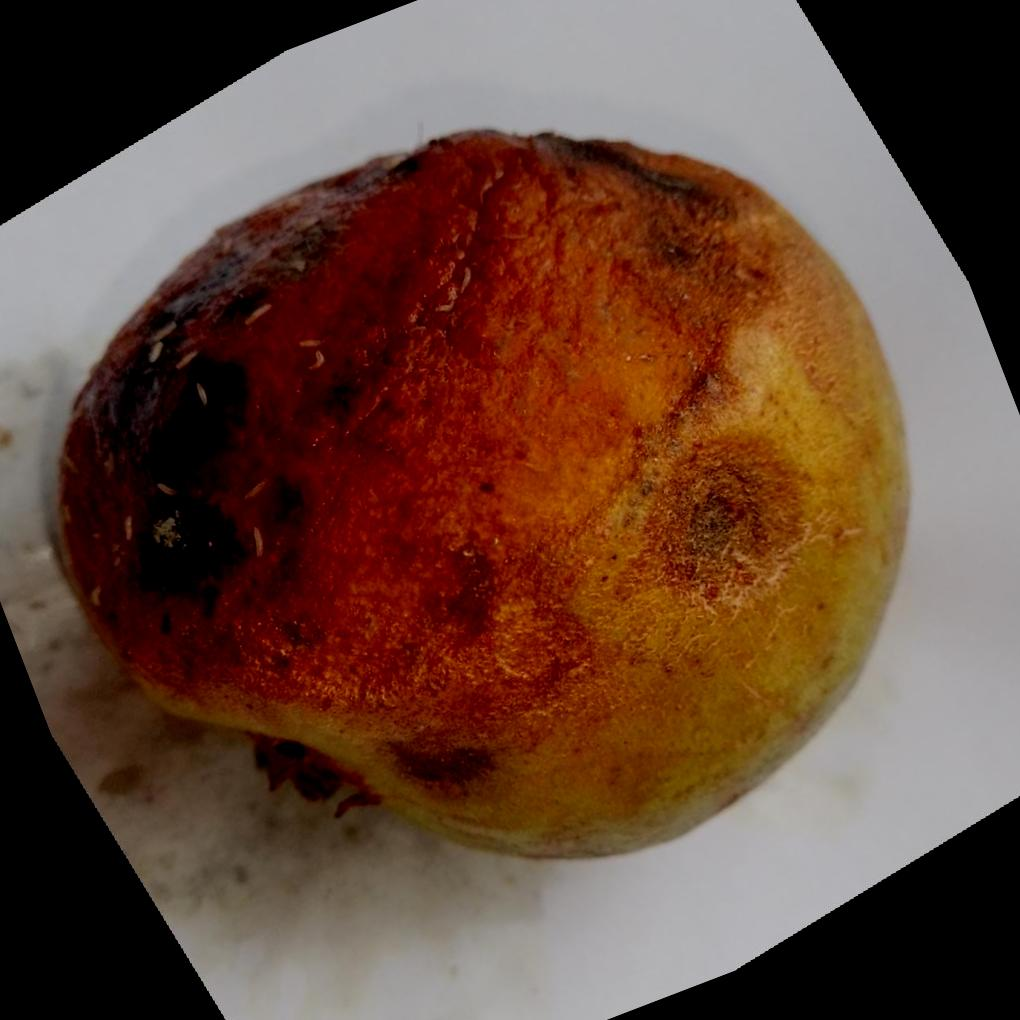FreshOrange: (44, 126, 910, 862)
